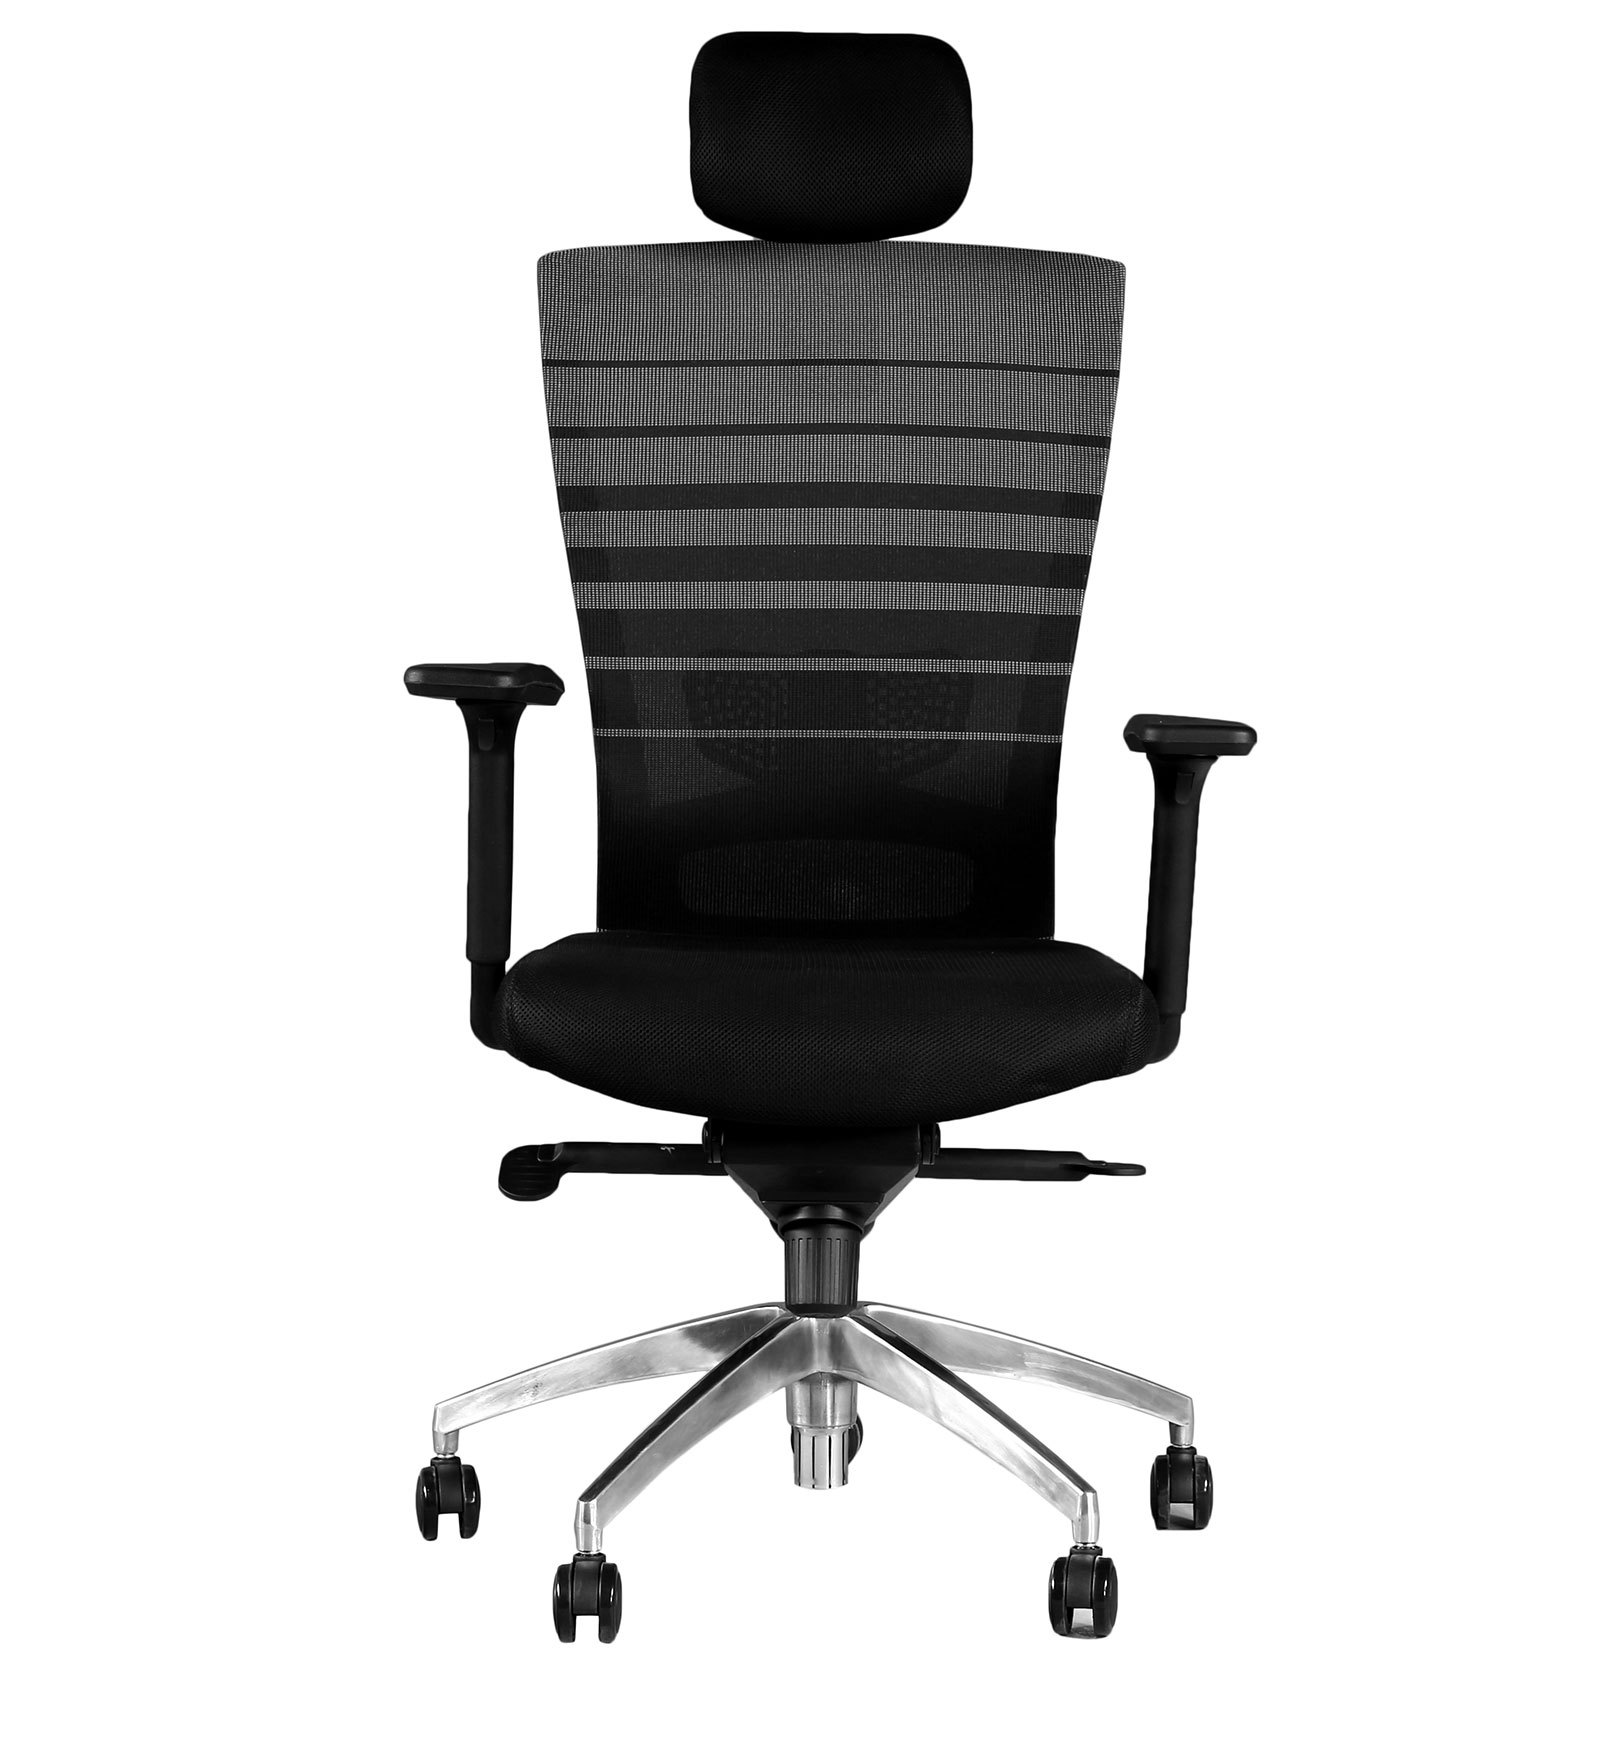Ergo High Back Ergonomic Chair in Black Colour by HomeTown: (352, 9, 1255, 1670)
